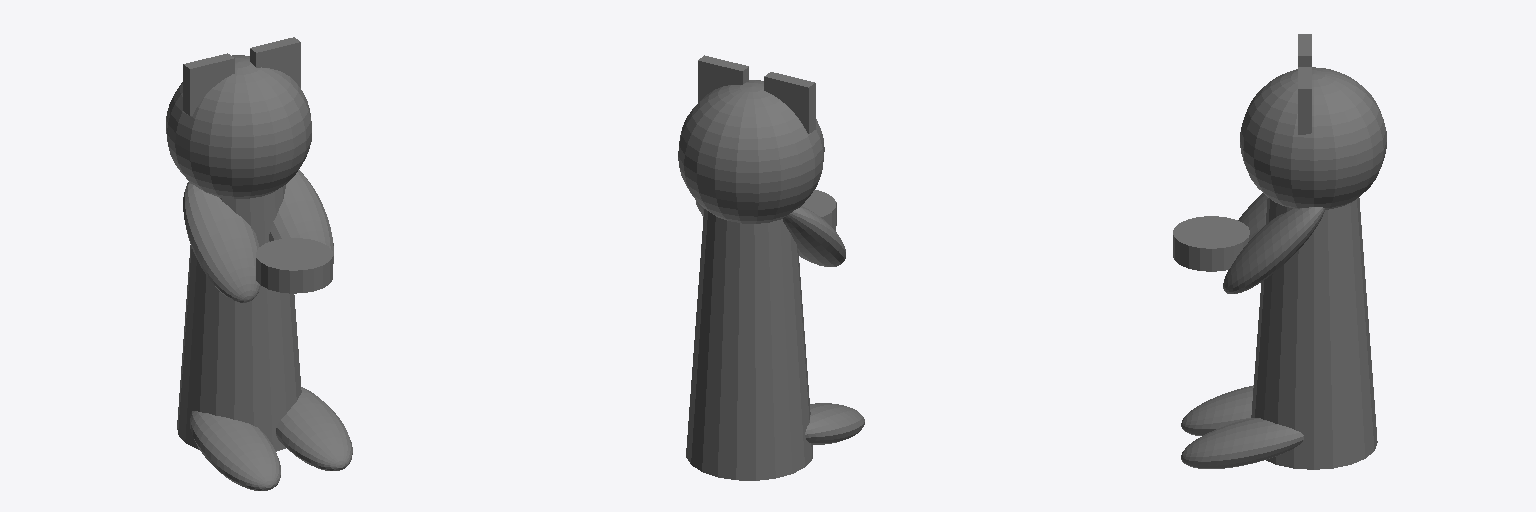
The model's file is PandaCheese.obj.
3 views of the same model, side by side, from view 1: azimuth 30°, elevation 25°; view 2: azimuth 150°, elevation 25°; view 3: azimuth 270°, elevation 25° (orthographic).
Visible parts, largest first — view 1: PandaCheese3:initialShadingGroup PandaCheese3:pCylinder2 PandaCh, PandaCheese3:Arm_initialShadingGroup3 PandaCheese3:group7 PandaC, PandaCheese3:Arm_initialShadingGroup1 PandaCheese3:group1 PandaC, PandaCheese3:Arm_initialShadingGroup PandaCheese3:group4 PandaCh, PandaCheese3:pCylinder1 PandaCheese3:polySurface5 PandaCheese3:p, PandaCheese3:Arm_initialShadingGroup2 PandaCheese3:group6 PandaC, PandaCheese3:group3 PandaCheese3:pasted__pCube1 PandaCheese3:pol, PandaCheese3:pCube1 PandaCheese3:polySurface4 PandaCheese3:polyS; view 2: PandaCheese3:initialShadingGroup PandaCheese3:pCylinder2 PandaCh, PandaCheese3:Arm_initialShadingGroup3 PandaCheese3:group7 PandaC, PandaCheese3:Arm_initialShadingGroup1 PandaCheese3:group1 PandaC, PandaCheese3:group3 PandaCheese3:pasted__pCube1 PandaCheese3:pol, PandaCheese3:pCube1 PandaCheese3:polySurface4 PandaCheese3:polyS, PandaCheese3:pCylinder1 PandaCheese3:polySurface5 PandaCheese3:p; view 3: PandaCheese3:initialShadingGroup PandaCheese3:pCylinder2 PandaCh, PandaCheese3:Arm_initialShadingGroup PandaCheese3:group4 PandaCh, PandaCheese3:Arm_initialShadingGroup2 PandaCheese3:group6 PandaC, PandaCheese3:pCylinder1 PandaCheese3:polySurface5 PandaCheese3:p, PandaCheese3:Arm_initialShadingGroup1 PandaCheese3:group1 PandaC, PandaCheese3:pCube1 PandaCheese3:polySurface4 PandaCheese3:polyS, PandaCheese3:Arm_initialShadingGroup3 PandaCheese3:group7 PandaC.
Boxes of the visible parts, x1=… form: PandaCheese3:initialShadingGroup PandaCheese3:pCylinder2 PandaCh: x1=166, y1=55, x2=311, y2=451; PandaCheese3:Arm_initialShadingGroup3 PandaCheese3:group7 PandaC: x1=183, y1=182, x2=260, y2=302; PandaCheese3:Arm_initialShadingGroup1 PandaCheese3:group1 PandaC: x1=190, y1=411, x2=280, y2=490; PandaCheese3:Arm_initialShadingGroup PandaCheese3:group4 PandaCh: x1=276, y1=387, x2=352, y2=470; PandaCheese3:pCylinder1 PandaCheese3:polySurface5 PandaCheese3:p: x1=256, y1=238, x2=332, y2=293; PandaCheese3:Arm_initialShadingGroup2 PandaCheese3:group6 PandaC: x1=269, y1=170, x2=333, y2=263; PandaCheese3:group3 PandaCheese3:pasted__pCube1 PandaCheese3:pol: x1=183, y1=53, x2=234, y2=115; PandaCheese3:pCube1 PandaCheese3:polySurface4 PandaCheese3:polyS: x1=250, y1=37, x2=300, y2=87; PandaCheese3:initialShadingGroup PandaCheese3:pCylinder2 PandaCh: x1=678, y1=80, x2=824, y2=480; PandaCheese3:Arm_initialShadingGroup3 PandaCheese3:group7 PandaC: x1=783, y1=206, x2=845, y2=266; PandaCheese3:Arm_initialShadingGroup1 PandaCheese3:group1 PandaC: x1=805, y1=403, x2=864, y2=444; PandaCheese3:group3 PandaCheese3:pasted__pCube1 PandaCheese3:pol: x1=764, y1=72, x2=815, y2=133; PandaCheese3:pCube1 PandaCheese3:polySurface4 PandaCheese3:polyS: x1=698, y1=55, x2=748, y2=102; PandaCheese3:pCylinder1 PandaCheese3:polySurface5 PandaCheese3:p: x1=802, y1=190, x2=836, y2=230; PandaCheese3:initialShadingGroup PandaCheese3:pCylinder2 PandaCh: x1=1240, y1=67, x2=1386, y2=469; PandaCheese3:Arm_initialShadingGroup PandaCheese3:group4 PandaCh: x1=1181, y1=418, x2=1303, y2=468; PandaCheese3:Arm_initialShadingGroup2 PandaCheese3:group6 PandaC: x1=1223, y1=207, x2=1324, y2=293; PandaCheese3:pCylinder1 PandaCheese3:polySurface5 PandaCheese3:p: x1=1173, y1=216, x2=1250, y2=271; PandaCheese3:Arm_initialShadingGroup1 PandaCheese3:group1 PandaC: x1=1181, y1=385, x2=1253, y2=435; PandaCheese3:pCube1 PandaCheese3:polySurface4 PandaCheese3:polyS: x1=1298, y1=67, x2=1311, y2=134; PandaCheese3:Arm_initialShadingGroup3 PandaCheese3:group7 PandaC: x1=1238, y1=193, x2=1267, y2=238.
Size of the model in its own units: 1.44 by 4.03 by 2.02.